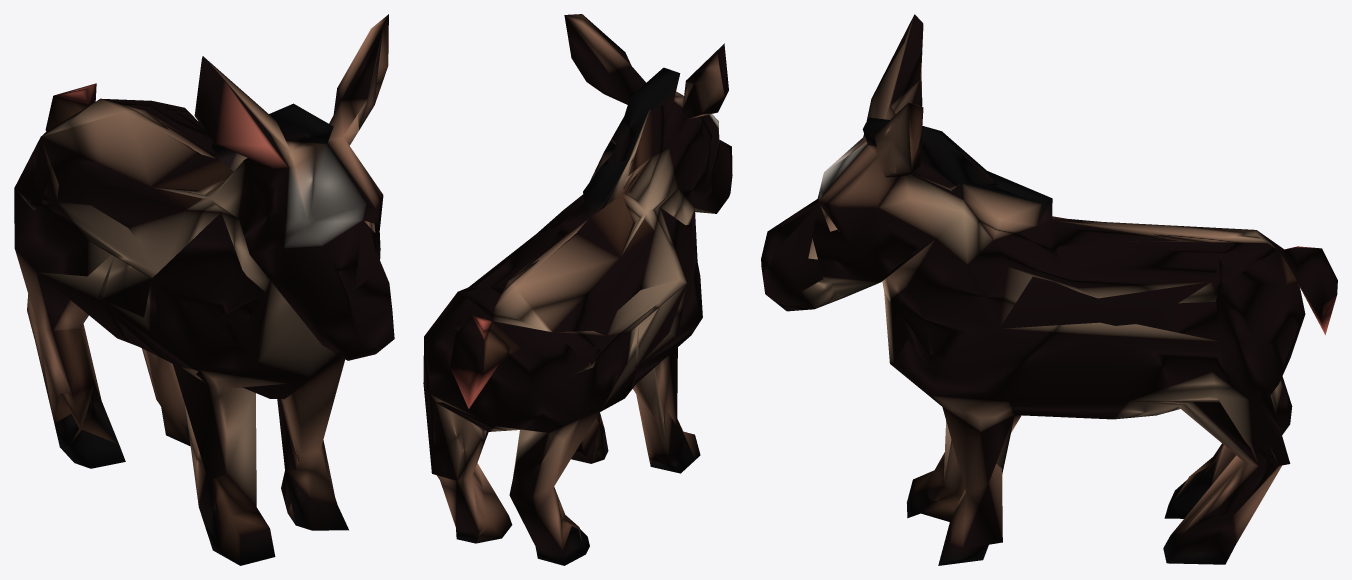
File: gen3d-donkey-lod1.glb
3 views of the same model, side by side, from view 1: azimuth 30°, elevation 25°; view 2: azimuth 150°, elevation 25°; view 3: azimuth 270°, elevation 25° (orthographic). The views are drawn at different scales.
Visible parts, largest first — view 1: part_0; view 2: part_0; view 3: part_0.
Boxes of the visible parts, left/top/right/bottom form: part_0: left=14, top=14, right=394, bottom=565; part_0: left=423, top=14, right=732, bottom=565; part_0: left=761, top=14, right=1337, bottom=565.
Bounding box in the file's own units: 0.3973 × 0.9988 × 1.09.
